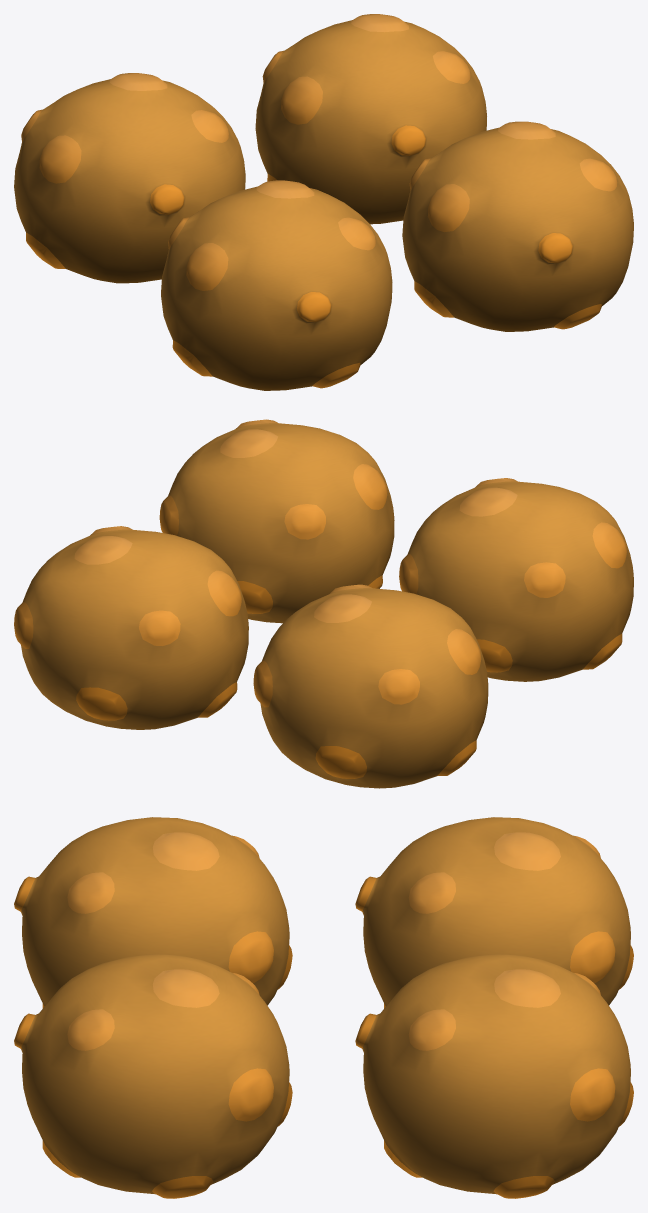
Rendered from Half_Cheese_Bread.fbx.
The picture shows the model from 3 angles, top to bottom: view 1: azimuth 30°, elevation 25°; view 2: azimuth 150°, elevation 25°; view 3: azimuth 270°, elevation 25°; orthographic projection. The views are drawn at different scales.
Parts seen in each view (by area): view 1: Half_Cheese_Bread; view 2: Half_Cheese_Bread; view 3: Half_Cheese_Bread.
Boxes of the visible parts, box(x1,y1,x2,y2) form: Half_Cheese_Bread: box(14, 14, 633, 390); Half_Cheese_Bread: box(14, 419, 633, 788); Half_Cheese_Bread: box(14, 817, 633, 1198).
Size of the model in its own units: 22.36 by 8.67 by 23.44.
